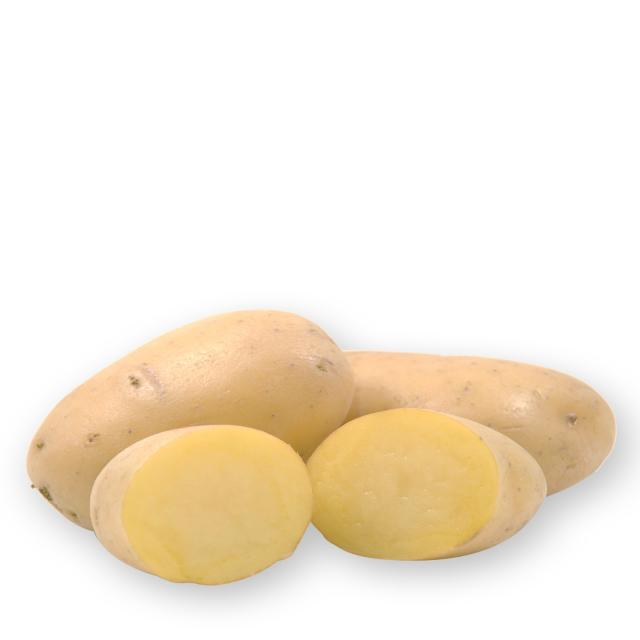Potato: (23, 268, 392, 568), (274, 405, 599, 560)
